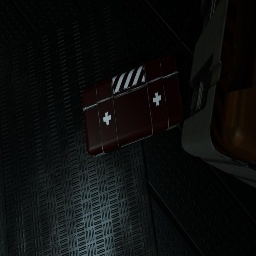FirstAidBox ,: (82, 52, 184, 157)
